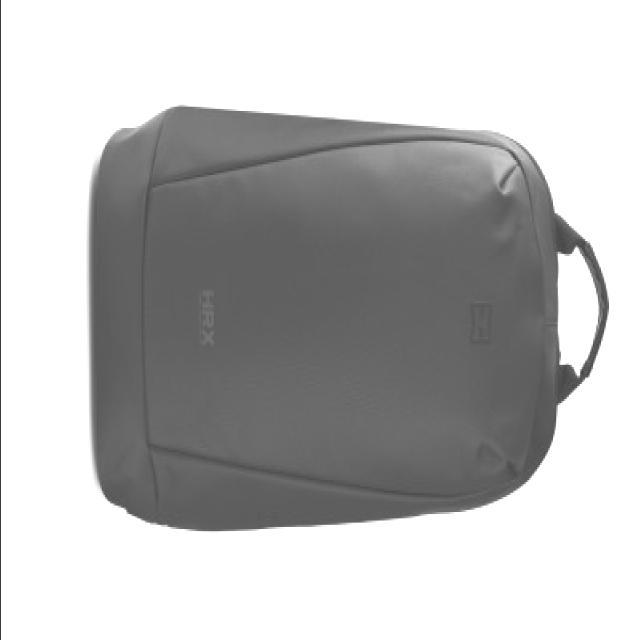backpack: (93, 106, 611, 532)
